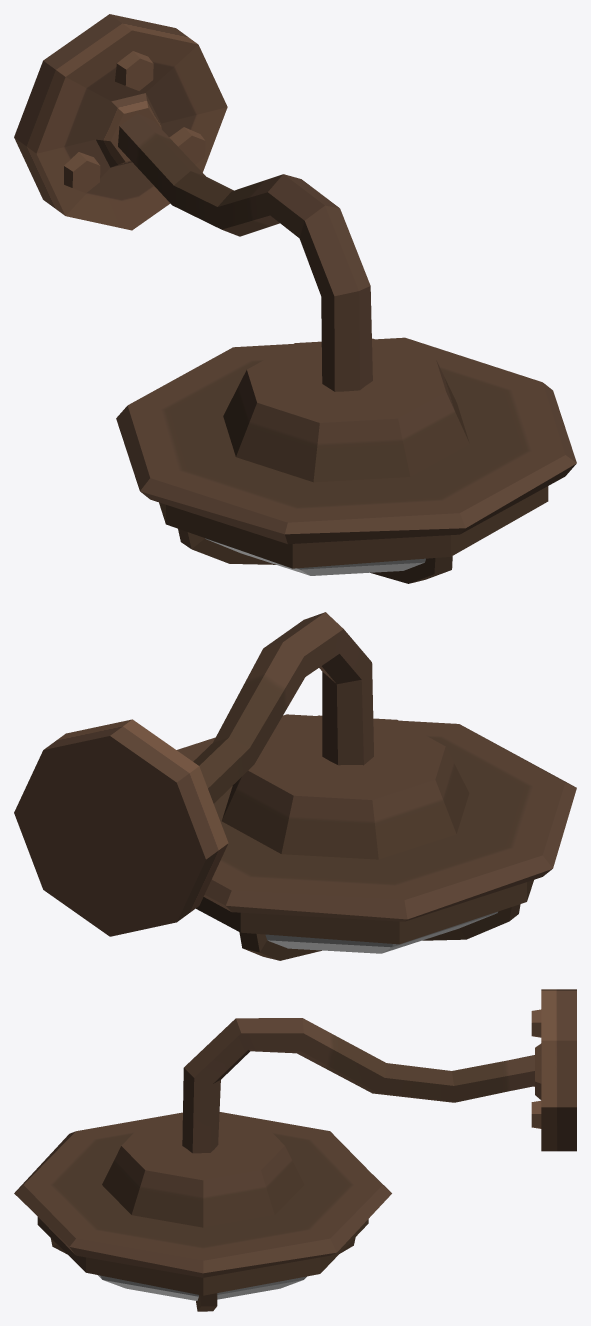
File: SM_Prop_Light_Cage_05.obj
The picture shows the model from 3 angles, top to bottom: view 1: azimuth 30°, elevation 25°; view 2: azimuth 150°, elevation 25°; view 3: azimuth 270°, elevation 25°; orthographic projection. The views are drawn at different scales.
Parts seen in each view (by area): view 1: SM_Prop_Light_Cage_05_0; view 2: SM_Prop_Light_Cage_05_0; view 3: SM_Prop_Light_Cage_05_0.
Part boxes in pixels (box(x1,y1,x2,y2)): SM_Prop_Light_Cage_05_0: box(14, 14, 576, 583); SM_Prop_Light_Cage_05_0: box(14, 612, 576, 960); SM_Prop_Light_Cage_05_0: box(14, 989, 576, 1311).
Bounding box in the file's own units: 0.3012 × 0.2514 × 0.4482.
1 material, 1 textured.
